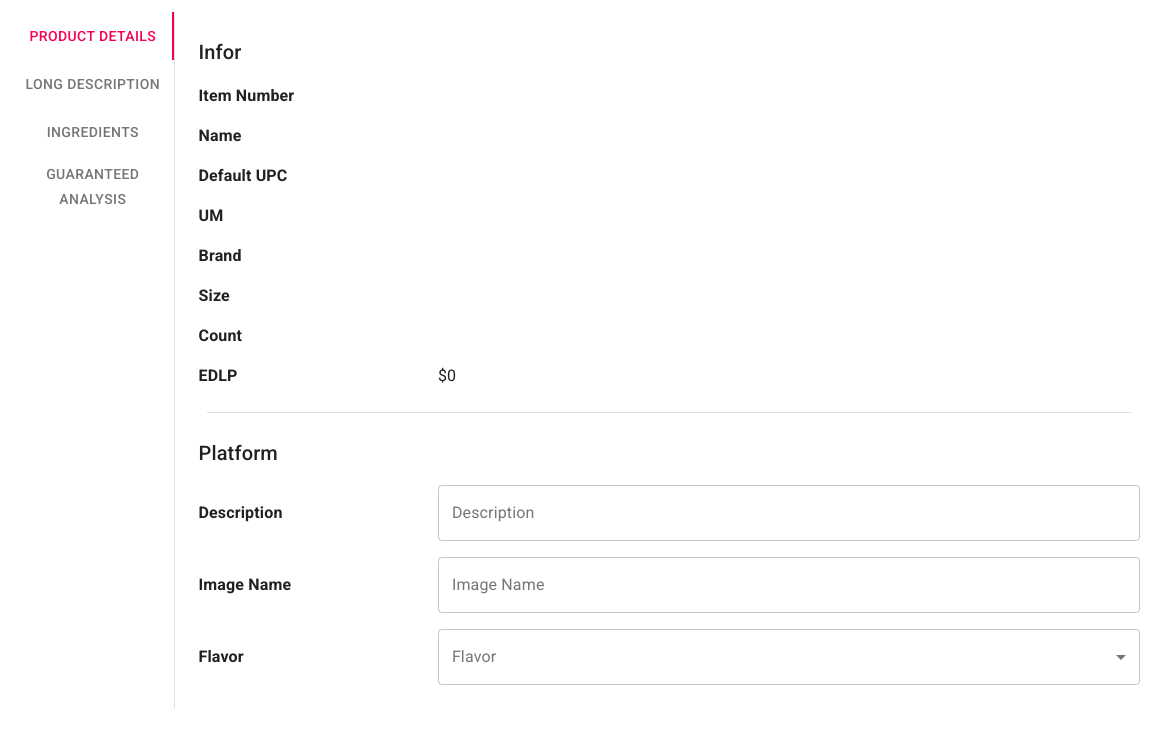
Test: ProductDetailsForm Tests › ProductDetailsForm - Selecting Guaranteed Analysis tab renders components
The width and height of the screenshot is (1164, 732).
Click the tab with test id "product-form-guaranteed-analysis-tab".
click(93, 186)  # box [12,156,174,217]
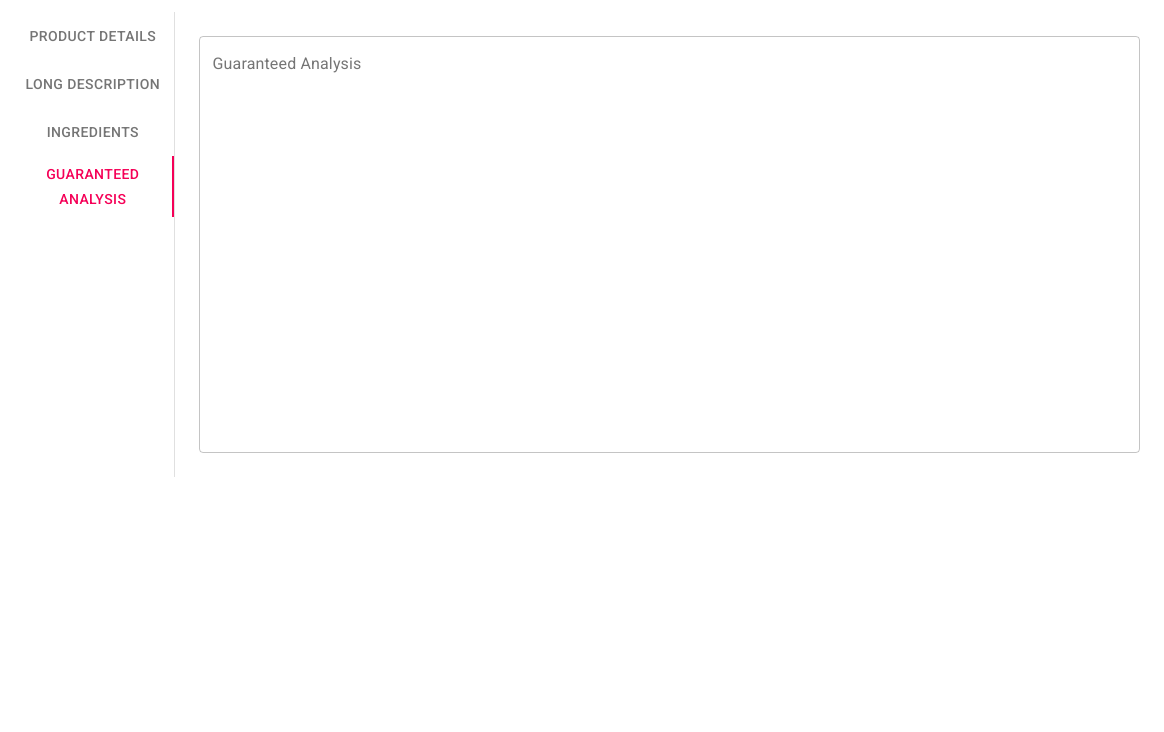
Check: the text box with test id "product-form-guaranteed-analysis" is shown, box [212,54,1126,434]
